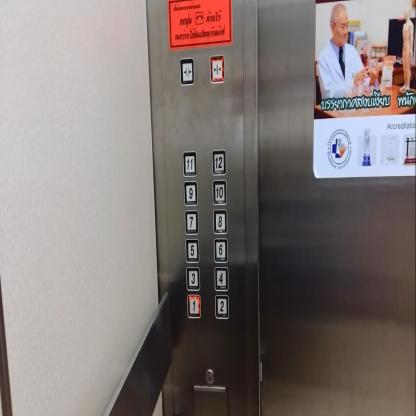1: (186, 292, 201, 320)
10: (212, 178, 227, 206)
11: (182, 148, 198, 178)
12: (211, 146, 227, 176)
2: (214, 293, 229, 320)
3: (186, 265, 200, 292)
4: (214, 265, 228, 292)
5: (184, 236, 200, 264)
6: (213, 236, 228, 263)
7: (183, 208, 199, 236)
8: (212, 207, 228, 235)
9: (182, 179, 198, 207)
close: (209, 53, 225, 84)
keyhole: (204, 367, 216, 386)
open: (179, 56, 195, 86)
